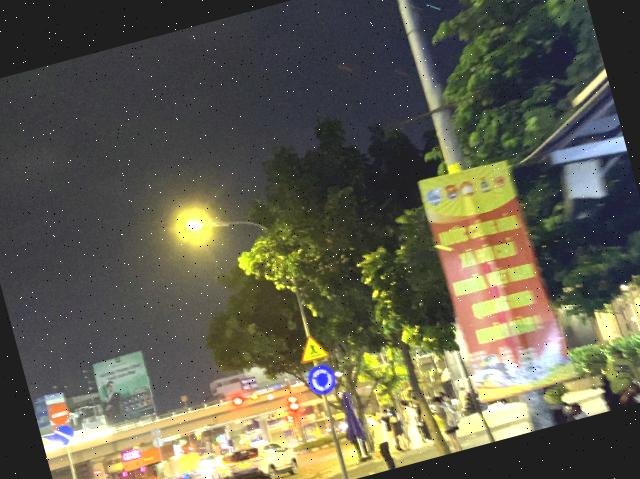cam-di-nguoc-chieu: (46, 400, 72, 426)
duong-nguoi-di-bo-cat-ngang: (294, 330, 331, 365)
huong-phai-di-vong-chuong-ngai-vat: (52, 421, 77, 448)
noi-giao-nhau-chay-theo-vong-xuyen: (304, 361, 339, 398)
